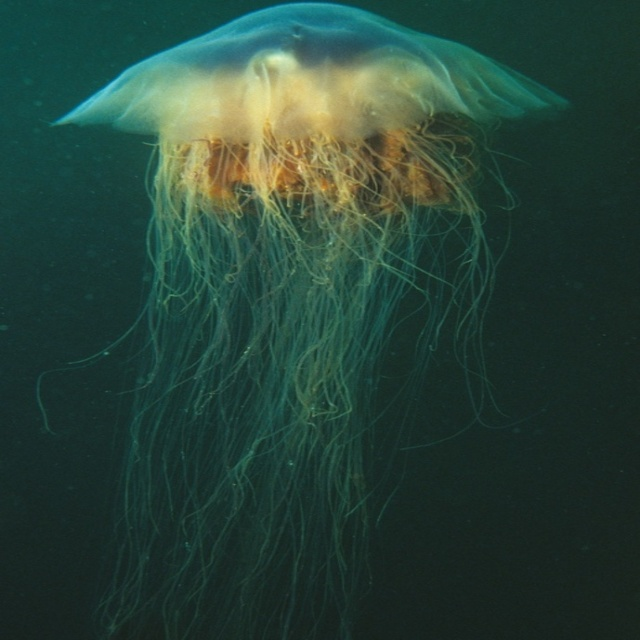Jellyfish: (33, 1, 574, 639)
